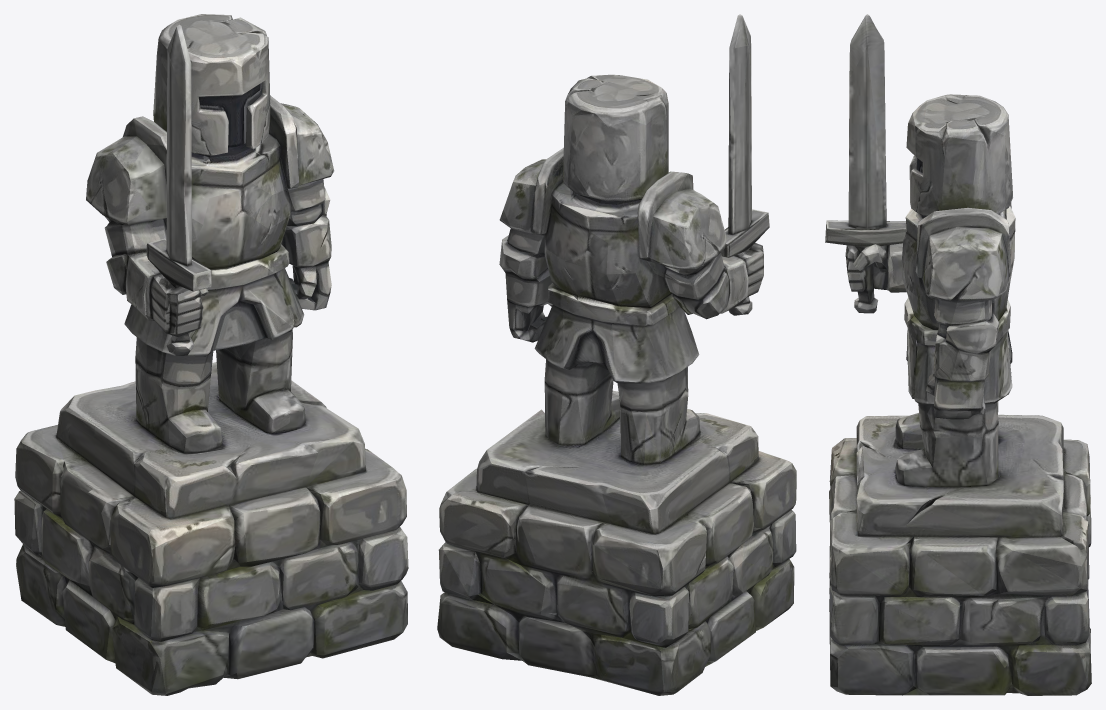
File: statue_3d.glb
3 views of the same model, side by side, from view 1: azimuth 30°, elevation 25°; view 2: azimuth 150°, elevation 25°; view 3: azimuth 270°, elevation 25° (orthographic). The views are drawn at different scales.
Parts seen in each view (by area): view 1: Mesh_0; view 2: Mesh_0; view 3: Mesh_0.
Part boxes in pixels (left/top/right/bottom): Mesh_0: left=14, top=14, right=408, bottom=695; Mesh_0: left=437, top=14, right=796, bottom=695; Mesh_0: left=825, top=14, right=1091, bottom=695.
Bounding box in the file's own units: 0.7837 × 1.88 × 0.7695.
1 material, 1 textured.
